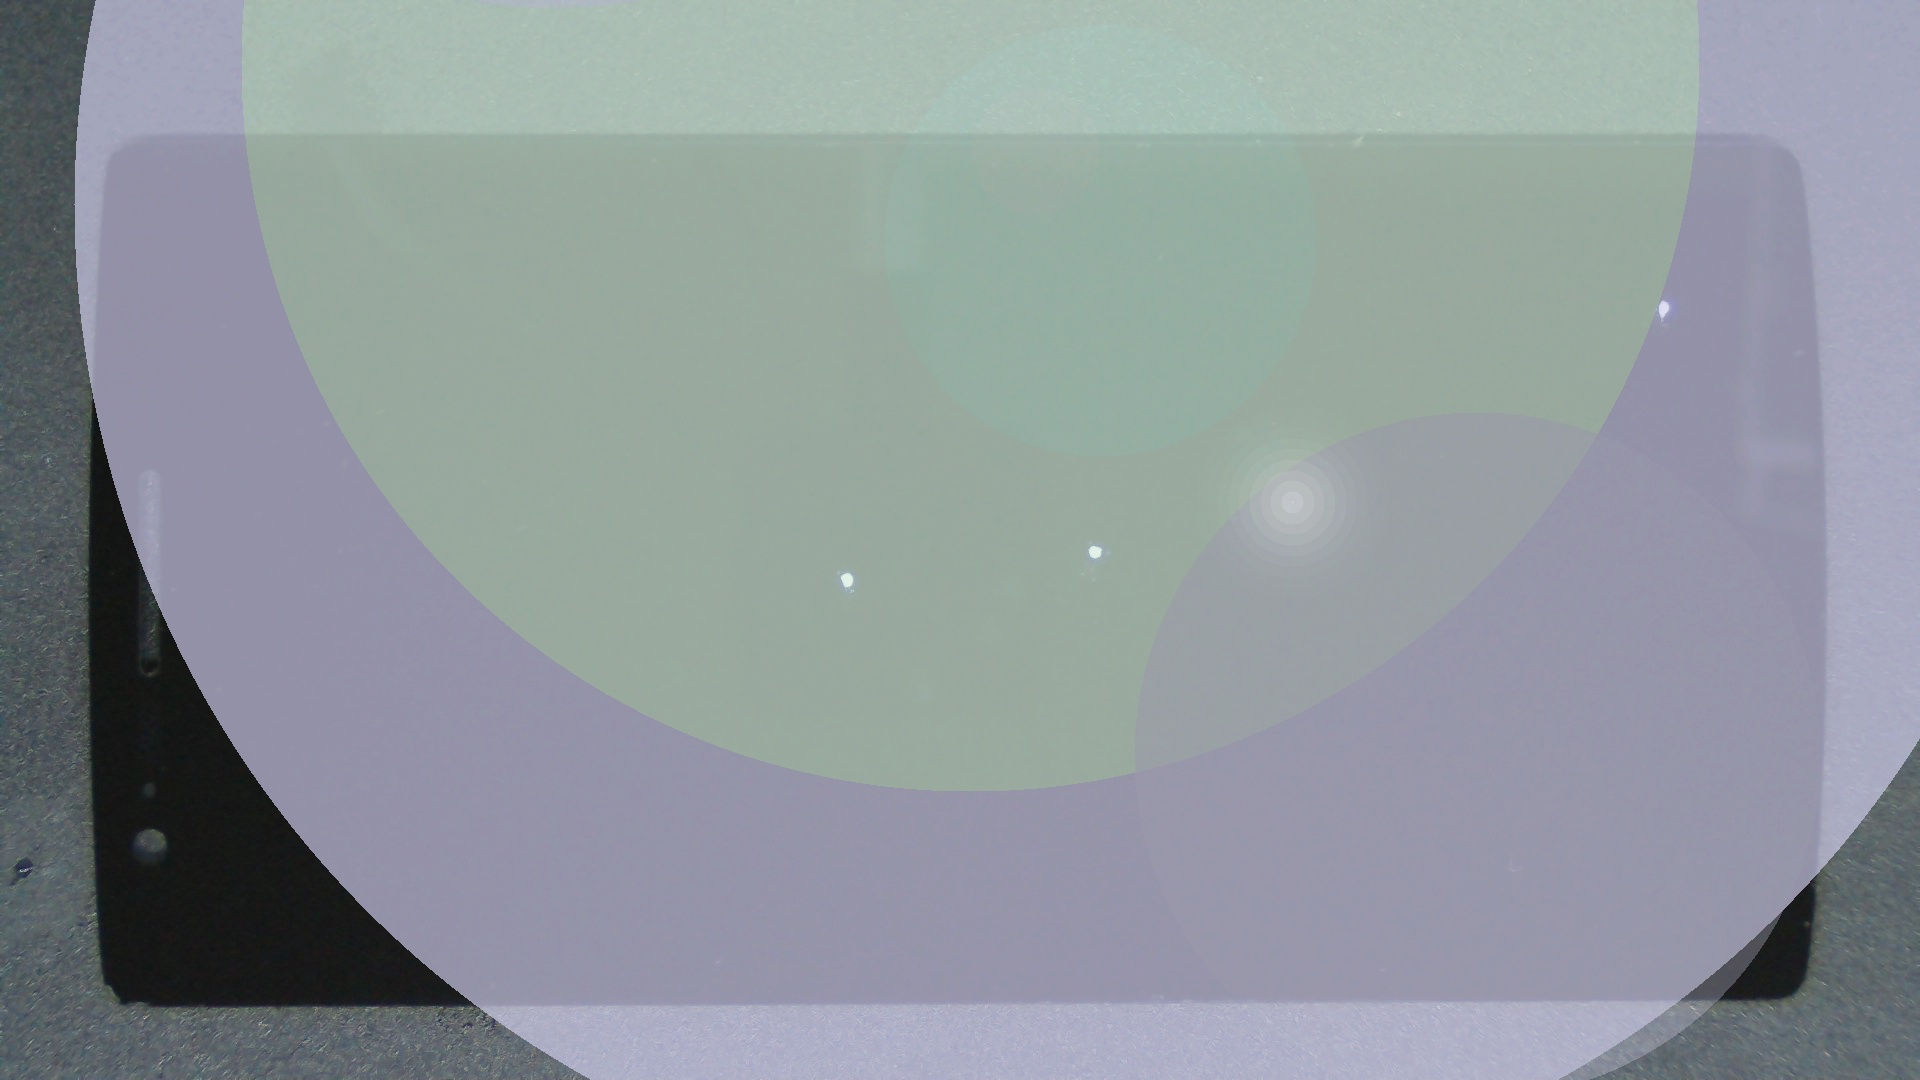oil: (546, 272, 1635, 818), (425, 284, 1270, 856), (832, 148, 1920, 448)
